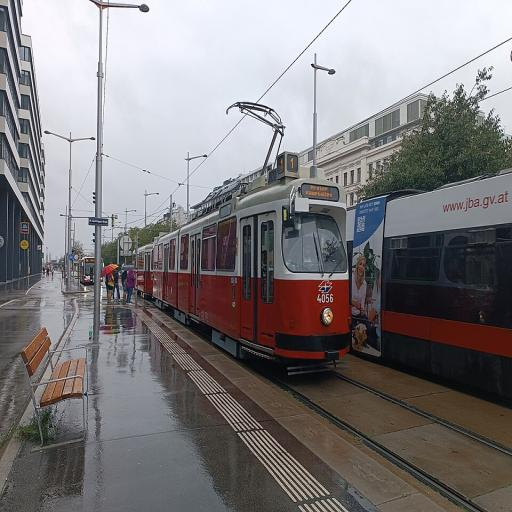E2-Tram: (132, 154, 354, 373)
